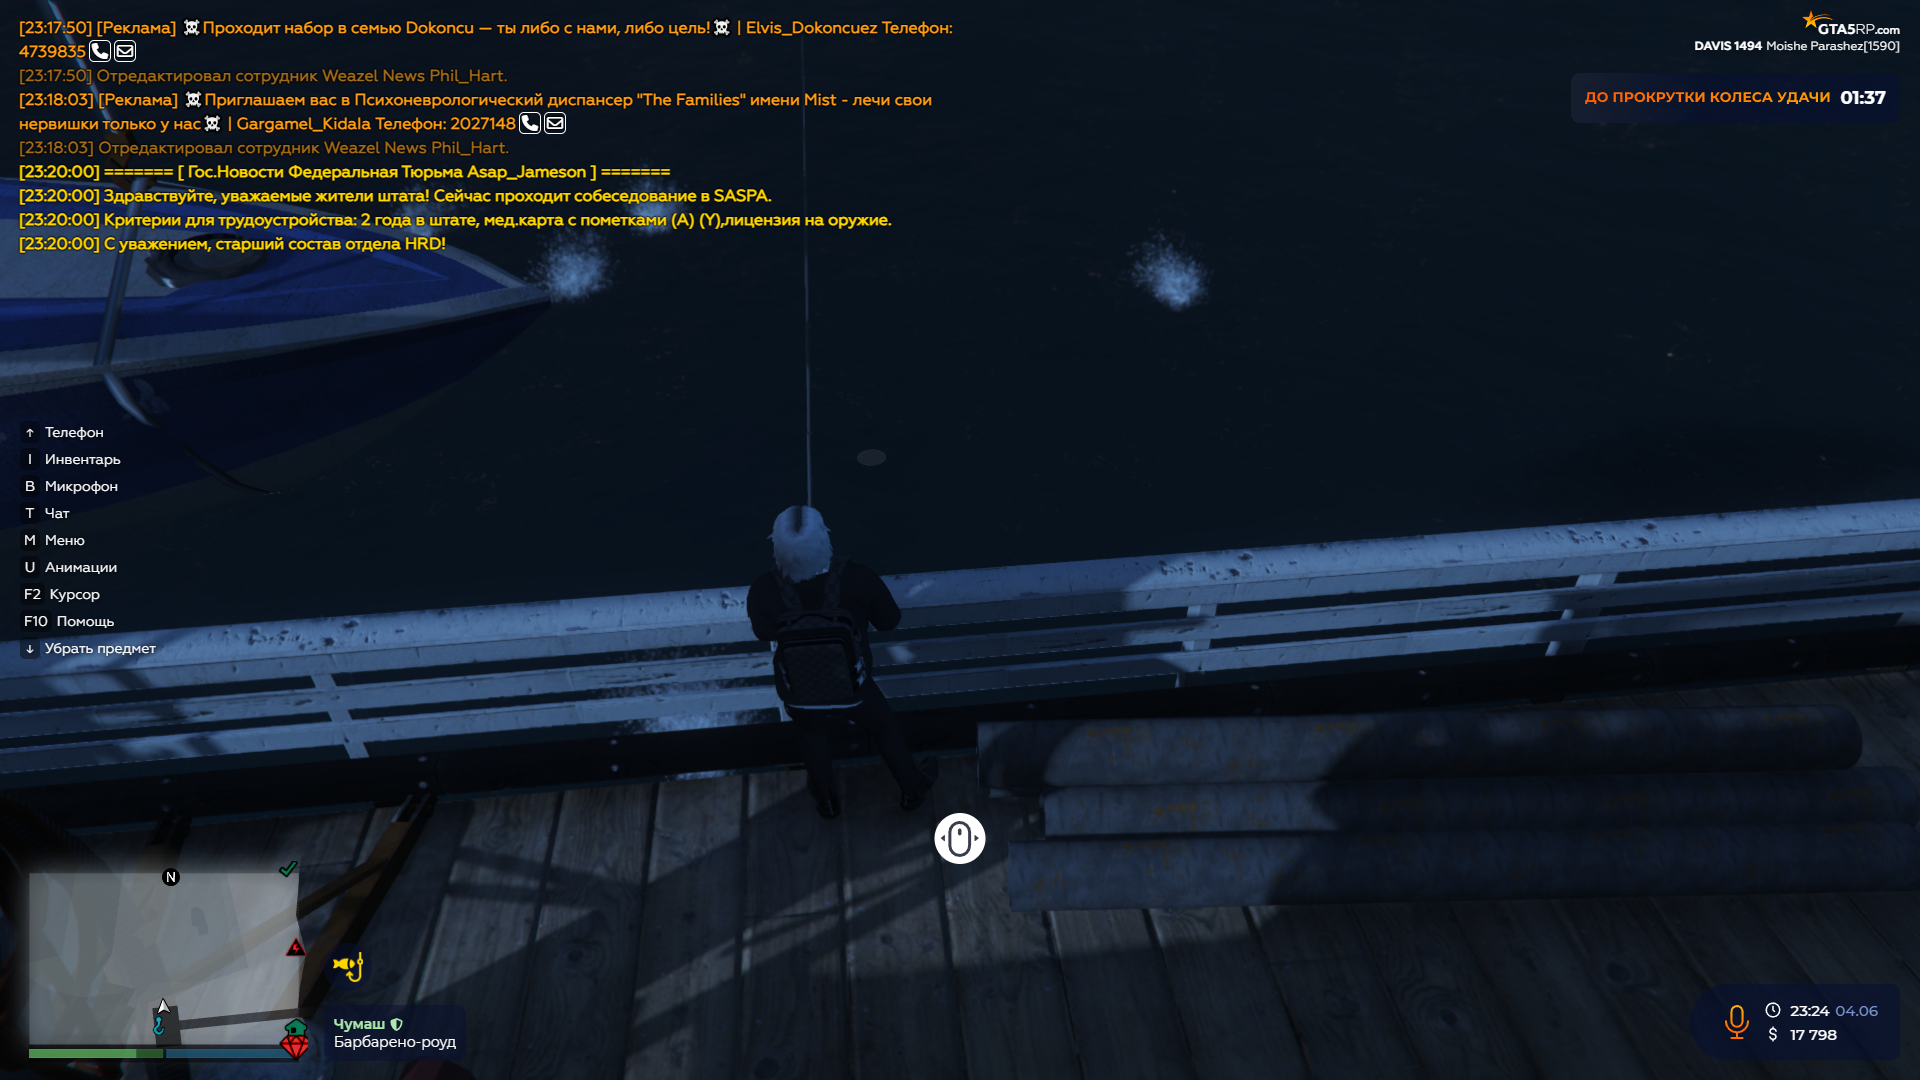circle: (857, 448, 887, 467)
